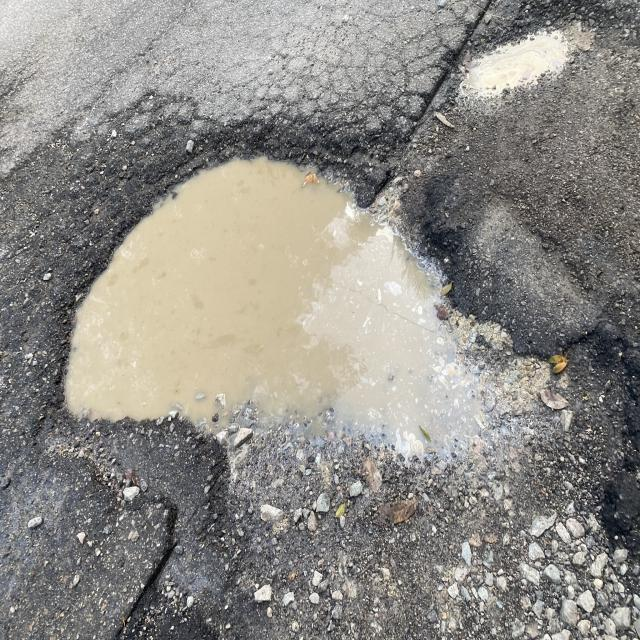pothole: (16, 103, 542, 586)
